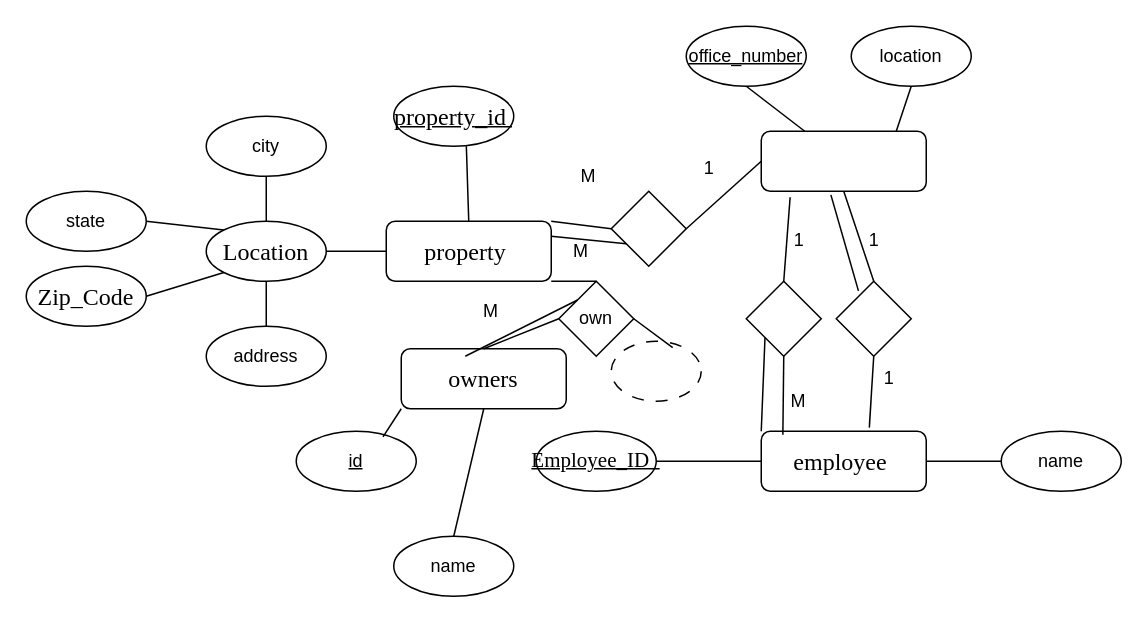
Some shapes in this 1148 by 623 pixel diagram are drawn without their labels. The centre of each missing label's shape, as x and y in pixels:
assign: pixel 783 318
listed: pixel 648 228
mange: pixel 873 318
office: pixel 843 160
percent: pixel 655 370
